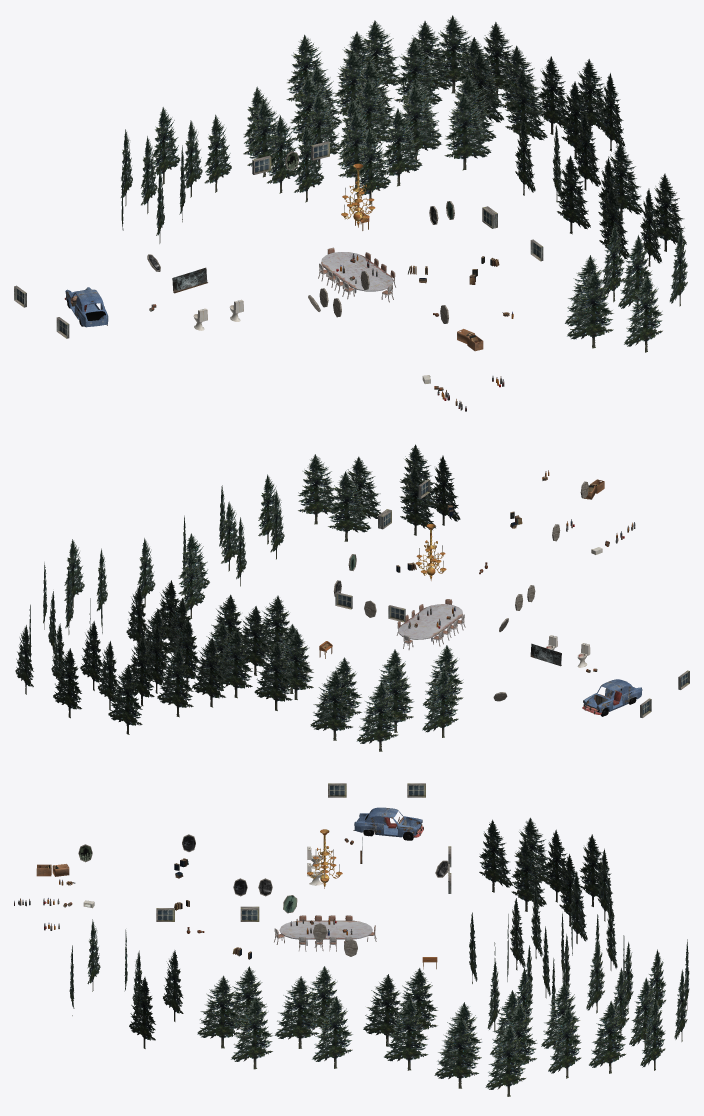
File: passthrough.obj
3 views of the same model, one above another, from view 1: azimuth 30°, elevation 25°; view 2: azimuth 150°, elevation 25°; view 3: azimuth 270°, elevation 25° (orthographic). The views are drawn at different scales.
Parts seen in each view (by area): view 1: Plane_Plane.002; view 2: Plane_Plane.002; view 3: Plane_Plane.002.
Boxes of the visible parts, bbox=[...] form: Plane_Plane.002: bbox=[14, 15, 687, 411]; Plane_Plane.002: bbox=[15, 444, 689, 751]; Plane_Plane.002: bbox=[14, 783, 689, 1096].
Size of the model in its own units: 47.13 by 8.86 by 47.02.
23 materials, 23 textured.
